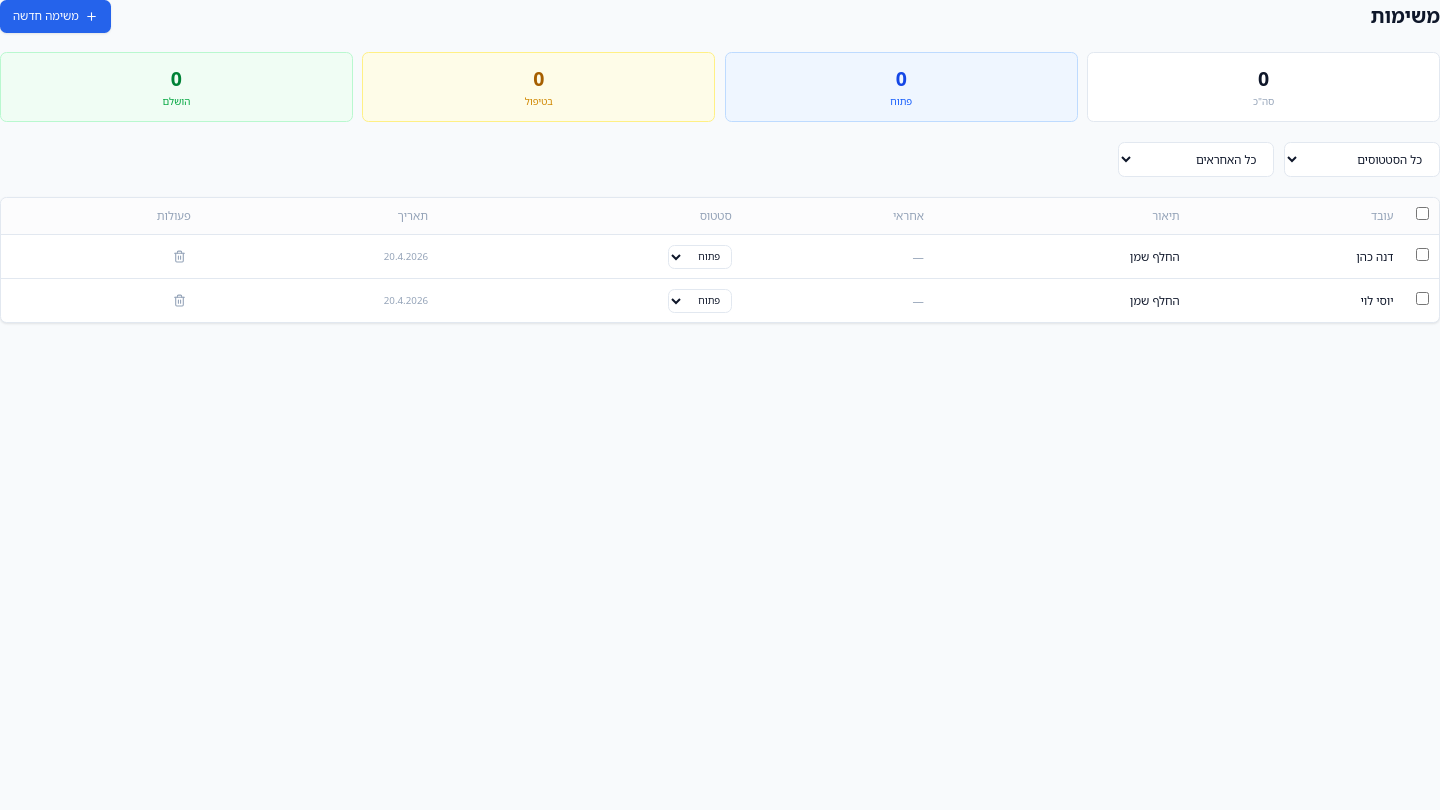
Test case: TasksClient — bulk delete flow › partial failure surfaces an error banner AND keeps failed rows selected for retry
Click the checkbox named "בחר דנה כהן — החלף שמן": point(1423, 255) [1416,248,1429,261]
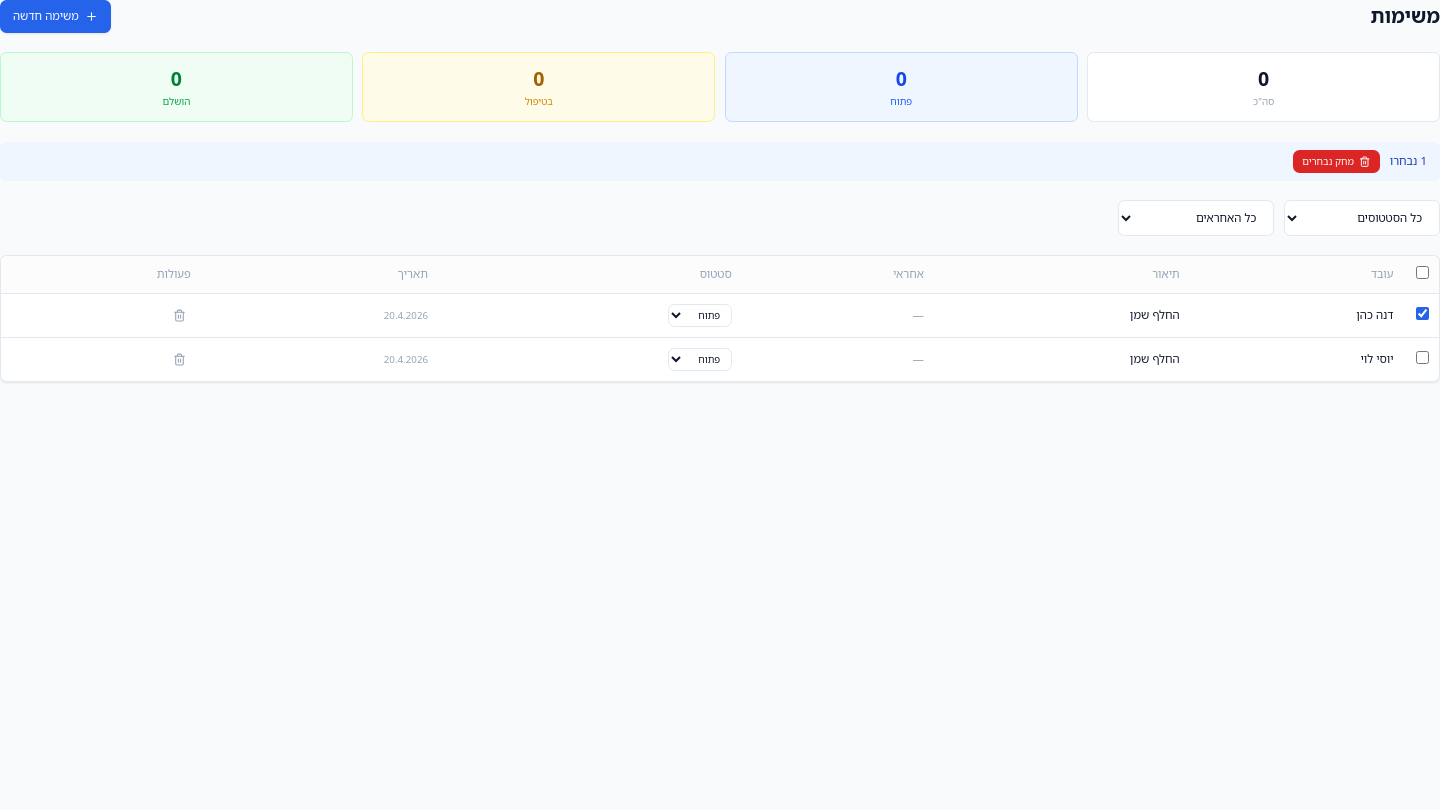
Click the checkbox named "בחר יוסי לוי — החלף שמן": point(1423, 357) [1416,351,1429,364]
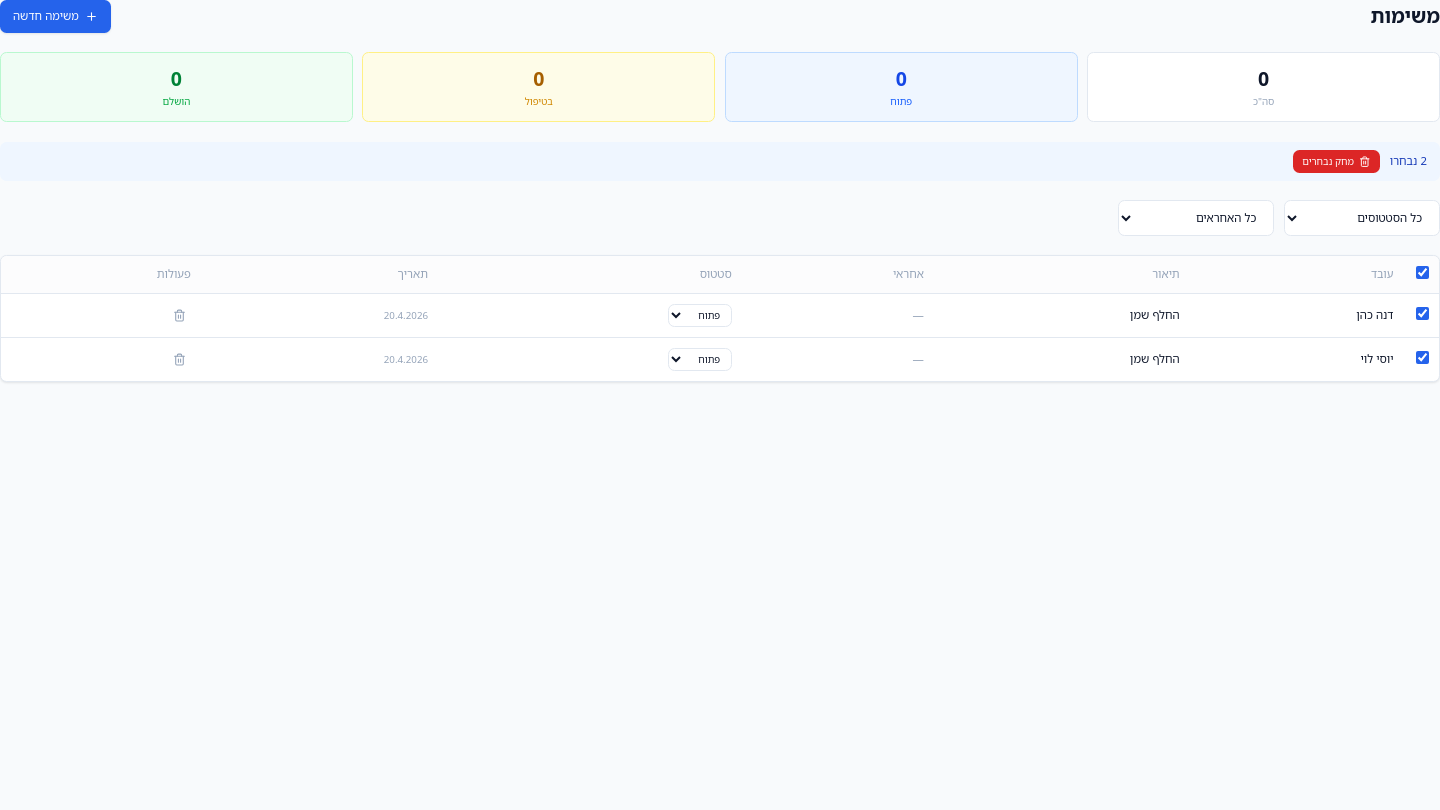
Click the button "מחק נבחרים": point(1336, 161) [1292,150,1380,173]
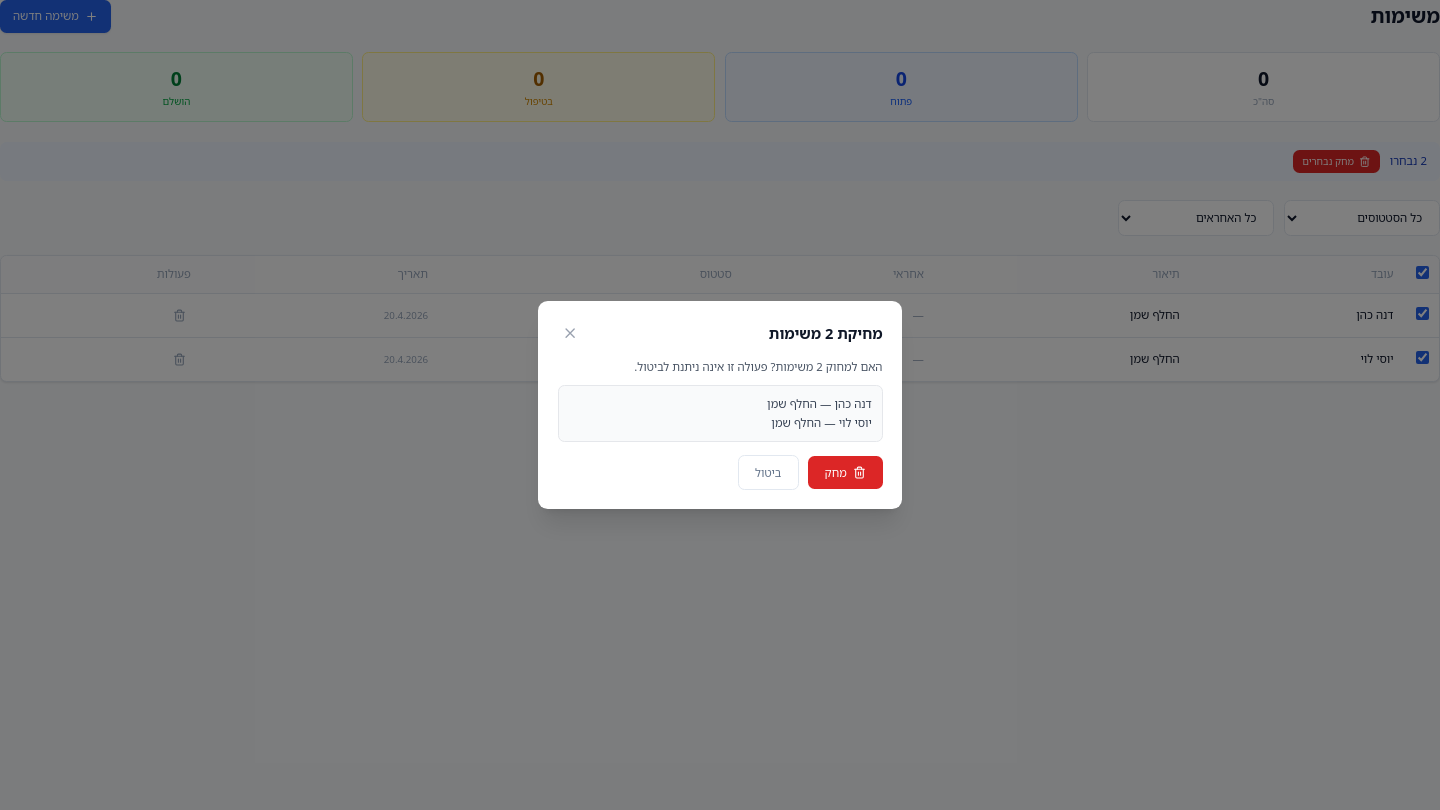
Click the button "מחק": point(845, 473) [808,456,882,489]
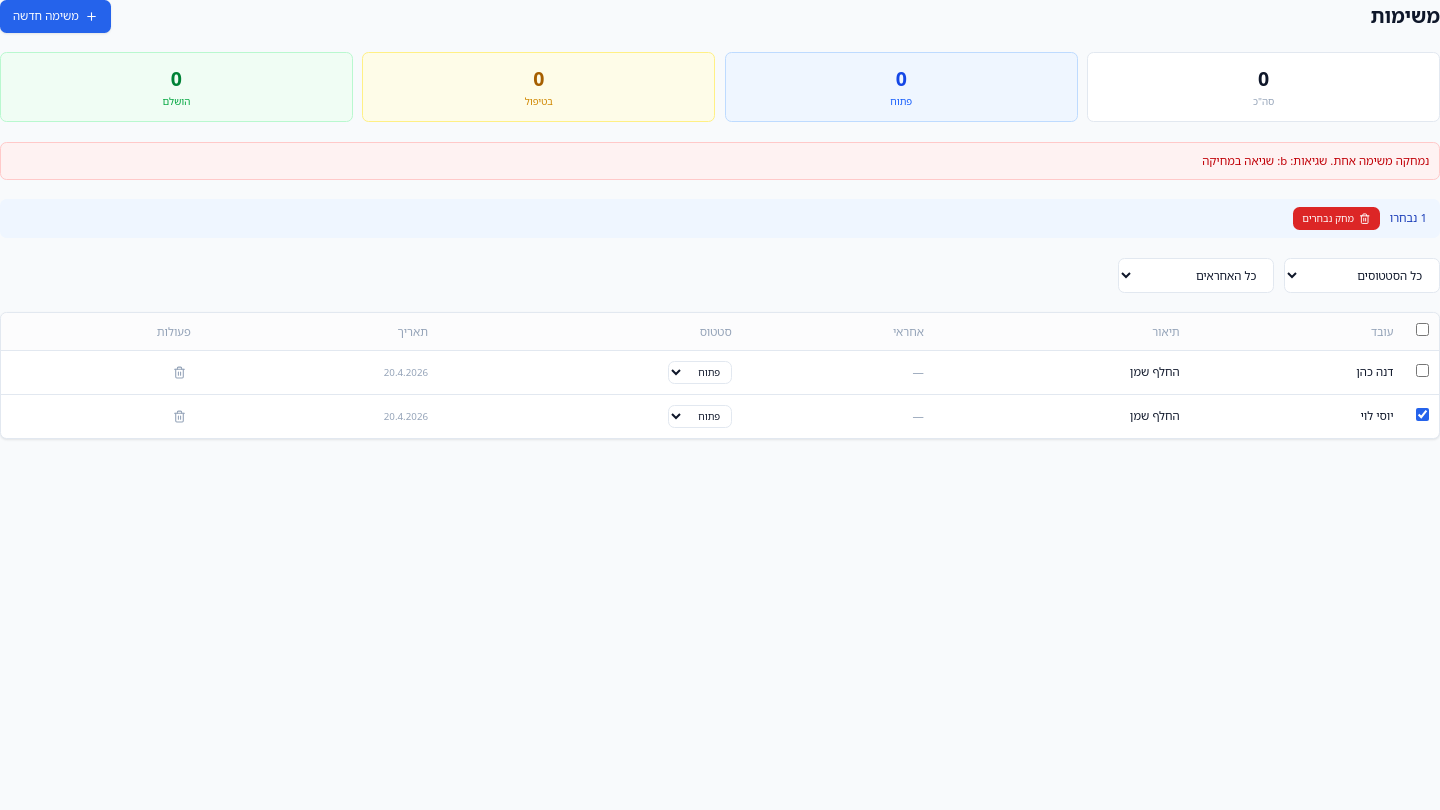
Expected: the checkbox named "בחר יוסי לוי — החלף שמן" is checked, [1416,408,1429,421]
Expected: the message shows "נמחקה משימה אחת", [1202,152,1429,168]
Expected: the message shows "שגיאה במחיקה", [1202,152,1429,168]
